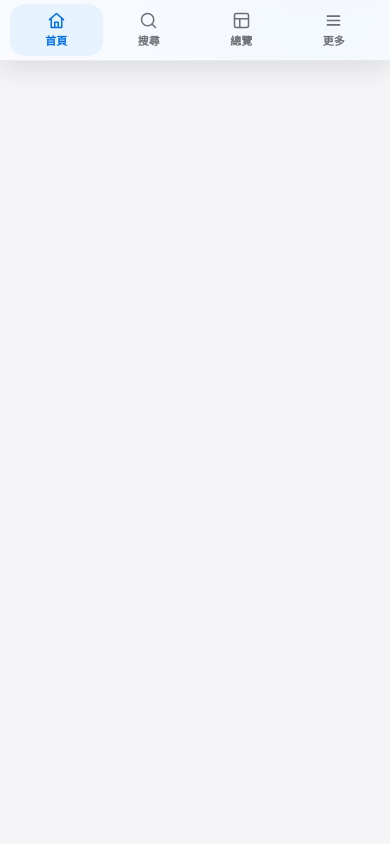
Test: MobileNavigation › shows four primary controls and exposes every route in the more sheet
expect the navigation bar named "行動版主導覽" is shown: met, box [0,0,389,61]
Click the button "更多" at (334, 30), box [288,4,380,56]
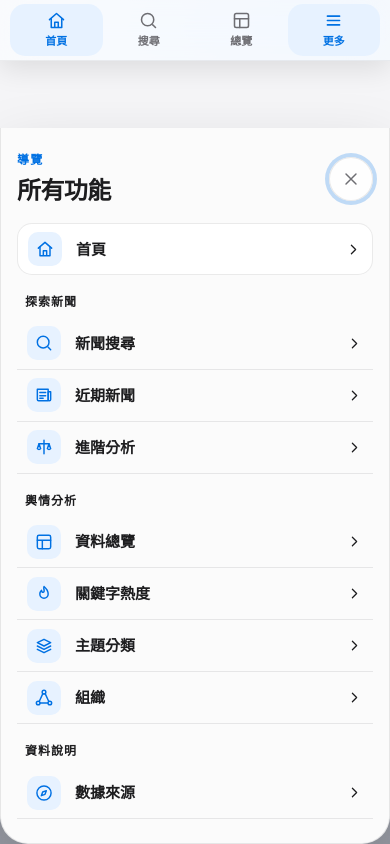
expect the dialog "所有功能" is shown: met
